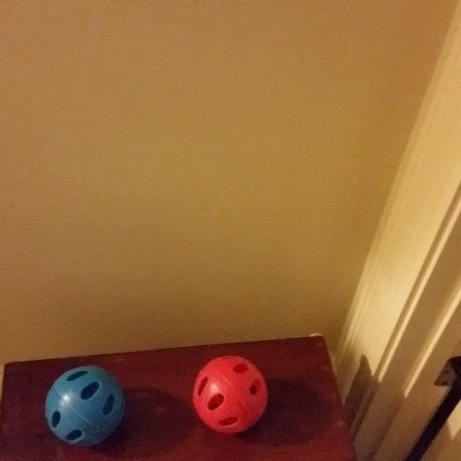ball: (41, 361, 131, 451), (191, 352, 271, 435)
